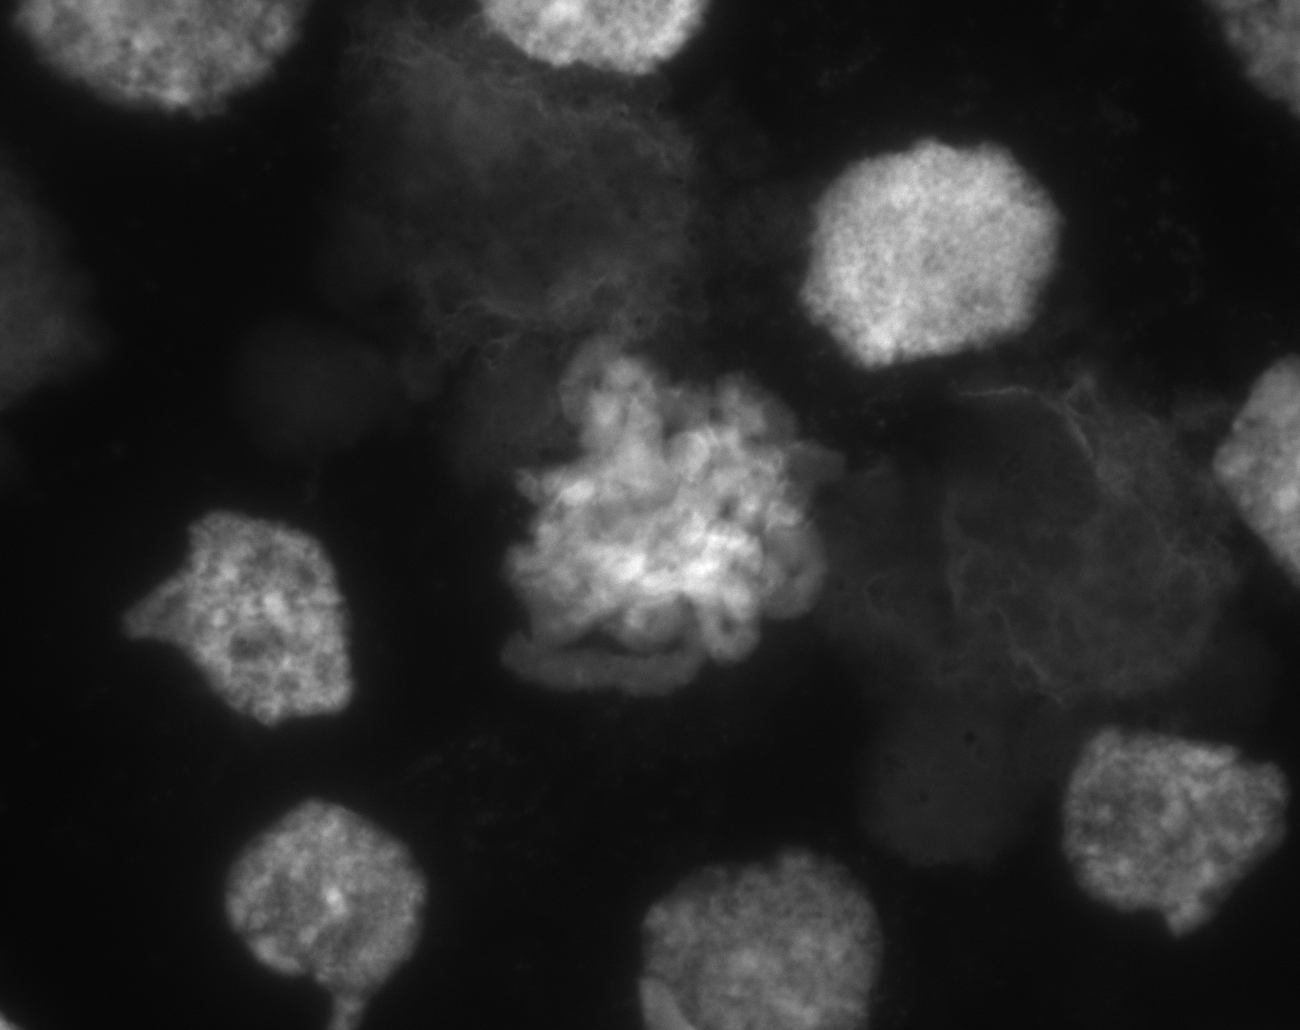Chromosomes: (453, 327, 865, 701)
Others: (336, 35, 760, 385), (875, 354, 1265, 732), (775, 101, 1088, 396), (160, 759, 500, 1030), (1003, 695, 1300, 967), (341, 13, 759, 196), (113, 483, 387, 739), (599, 818, 924, 1030)
